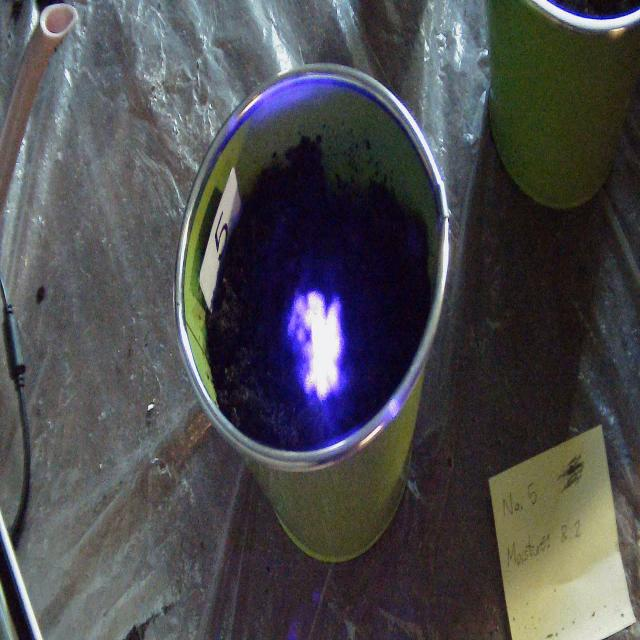soil-moisture-8.2: (288, 289, 345, 403)
